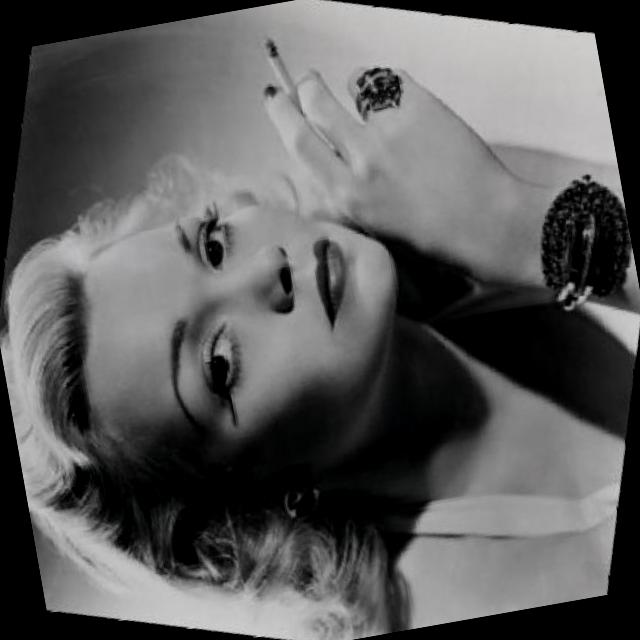smoke: (242, 23, 326, 122)
